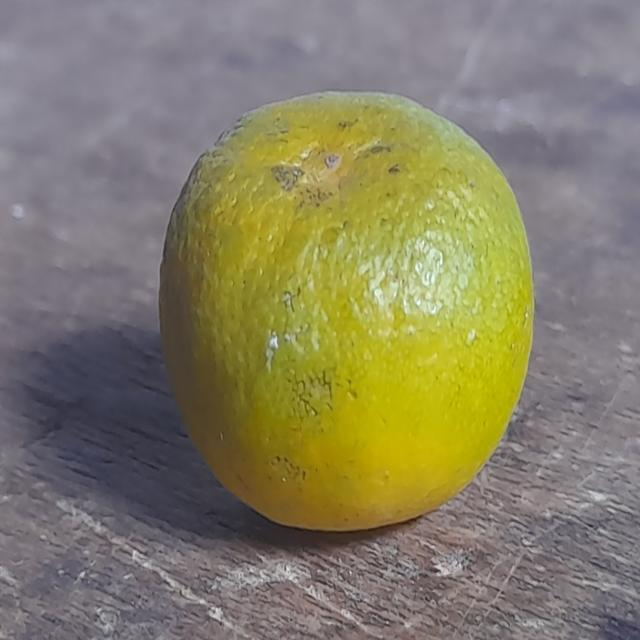greening: (156, 82, 539, 549)
